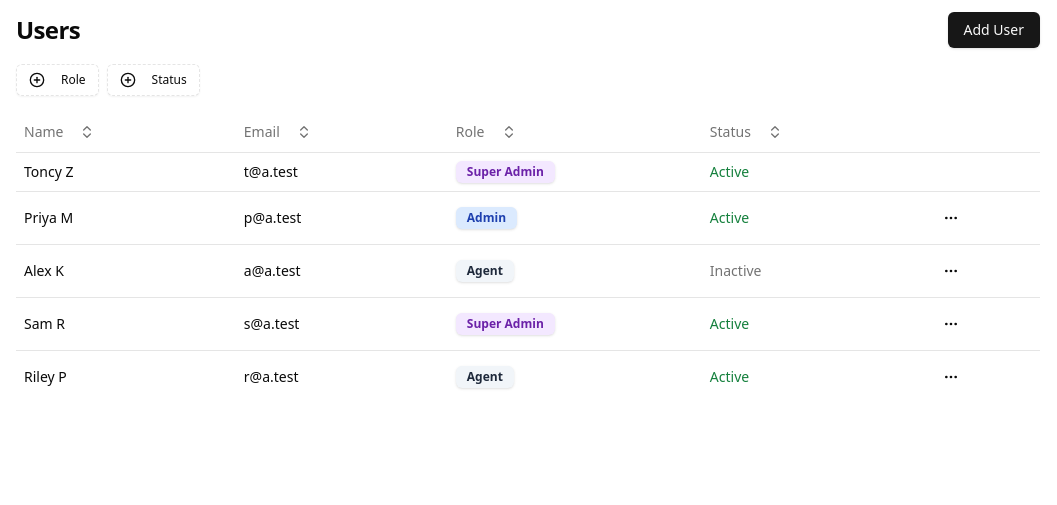
UsersPage › does not offer Permissions on a Super Admin row — the role already grants everything
The width and height of the screenshot is (1057, 505).
Expected: the text "Sam R" is shown, 24,314 -> 65,332
What coordinates should you click on to do the following:
click the button named "Actions for Sam R"
I would click on:
 (951, 324)
Its box is 933,306 -> 969,342.
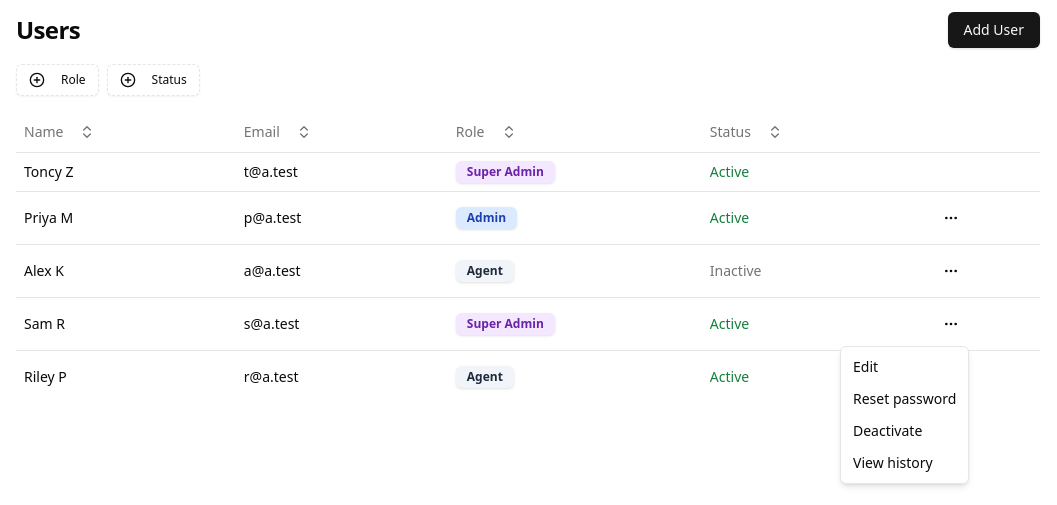
Result: the menu item "Edit" is shown at 853,357 -> 878,376
